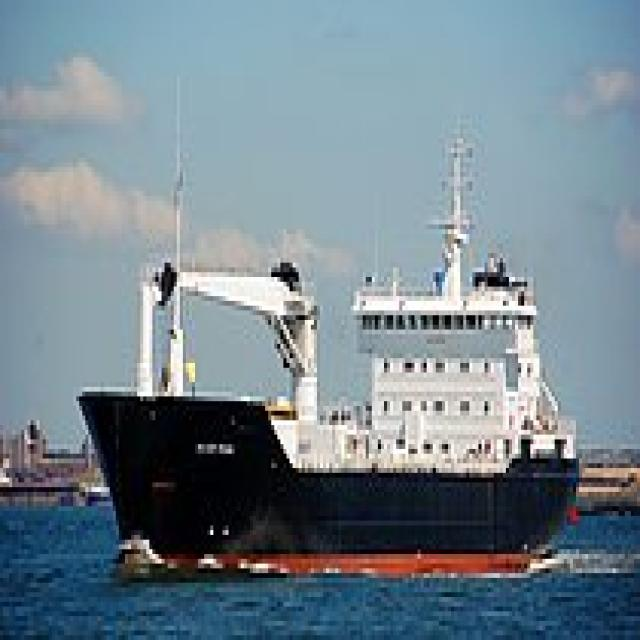Cargo: (70, 67, 579, 573)
